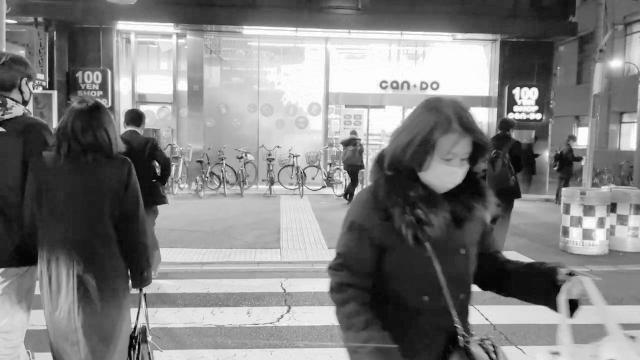berjalan: (324, 98, 640, 360), (24, 96, 160, 360), (330, 123, 366, 205)
